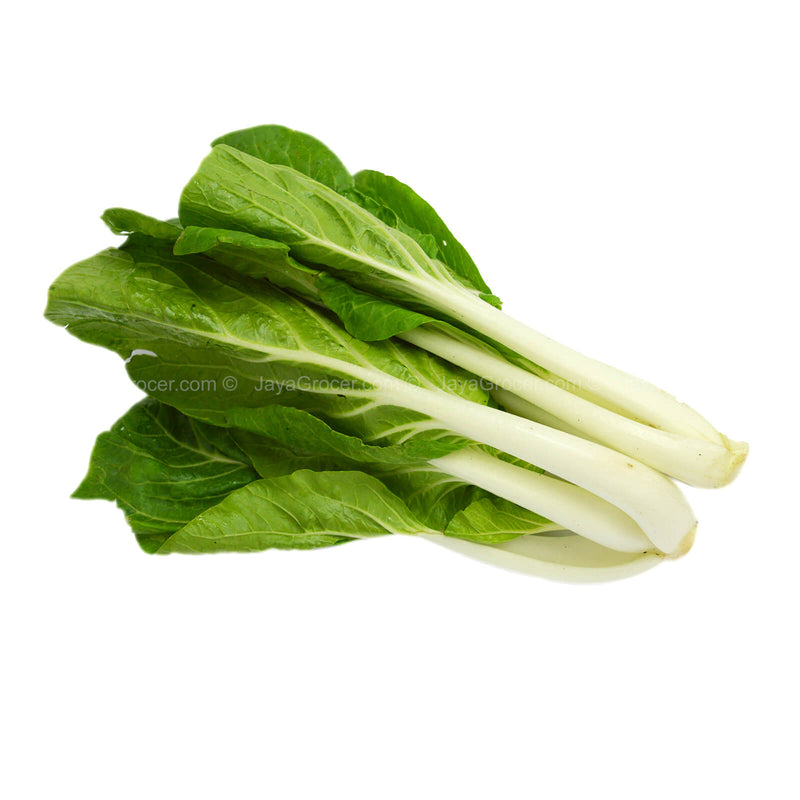Sawi: (29, 93, 779, 674)
